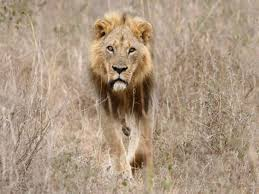lion: (86, 14, 172, 177)
